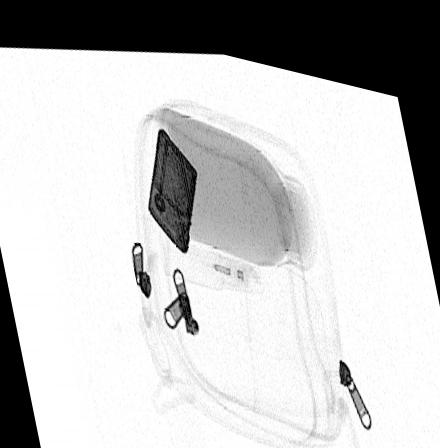Lighter: (147, 119, 198, 245)
